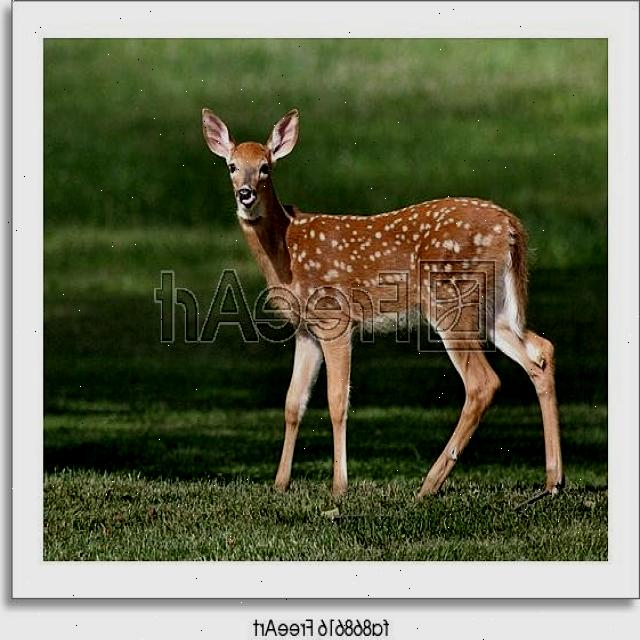deer: (192, 106, 312, 242)
